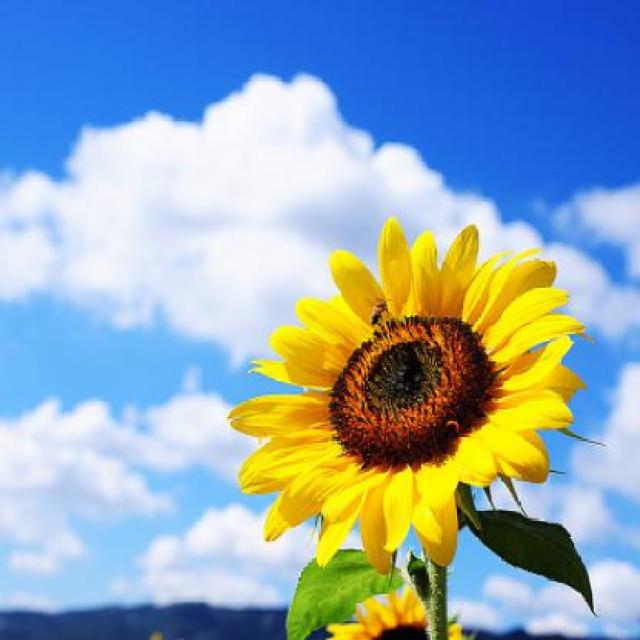sunflower: (231, 210, 583, 570)
